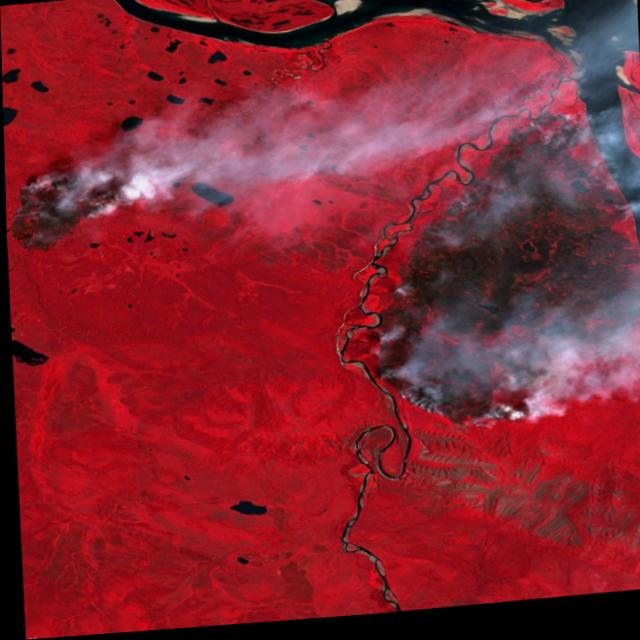fire: (364, 312, 556, 438), (4, 162, 126, 243)
